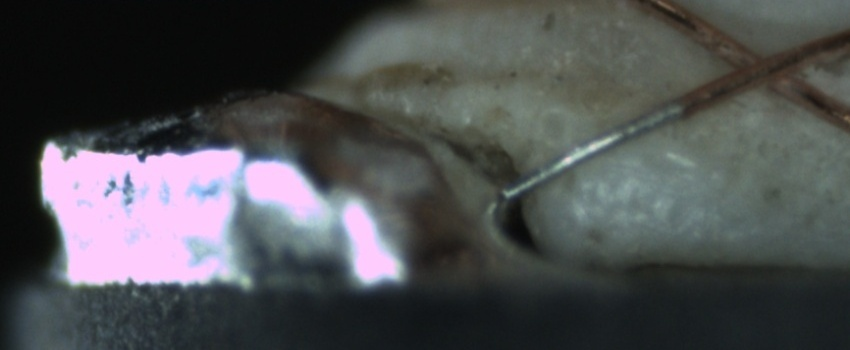CL: (701, 18, 835, 108)
TS: (494, 98, 676, 203)
